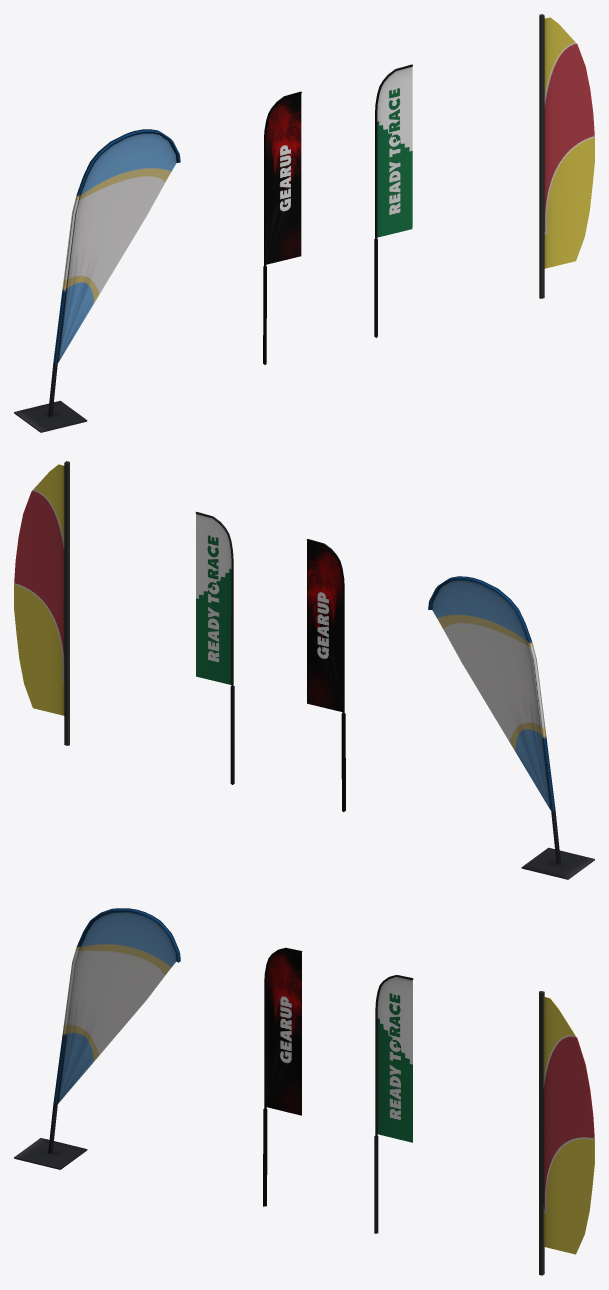
Rendered from 4 flags.FBX.
3 views of the same model, one above another, from view 1: azimuth 30°, elevation 25°; view 2: azimuth 150°, elevation 25°; view 3: azimuth 330°, elevation 25° (orthographic).
Visible parts, largest first — view 1: Object001, 34__Flag_04_4_Mat, 6__Flag_01_6Mat, 6__Flag_01_6Mat001; view 2: Object001, 34__Flag_04_4_Mat, 6__Flag_01_6Mat001, 6__Flag_01_6Mat; view 3: Object001, 34__Flag_04_4_Mat, 6__Flag_01_6Mat001, 6__Flag_01_6Mat.
Part boxes in pixels (box(x1,y1,x2,y2)): Object001: box(14, 129, 180, 432); 34__Flag_04_4_Mat: box(539, 14, 594, 298); 6__Flag_01_6Mat: box(263, 91, 301, 364); 6__Flag_01_6Mat001: box(374, 64, 412, 337); Object001: box(428, 576, 594, 879); 34__Flag_04_4_Mat: box(14, 461, 69, 745); 6__Flag_01_6Mat001: box(195, 511, 234, 784); 6__Flag_01_6Mat: box(307, 539, 345, 811); Object001: box(14, 908, 180, 1169); 34__Flag_04_4_Mat: box(539, 991, 594, 1275); 6__Flag_01_6Mat001: box(374, 975, 413, 1233); 6__Flag_01_6Mat: box(263, 947, 302, 1206).
Bounding box in the file's own units: 48.82 × 23.21 × 4.
